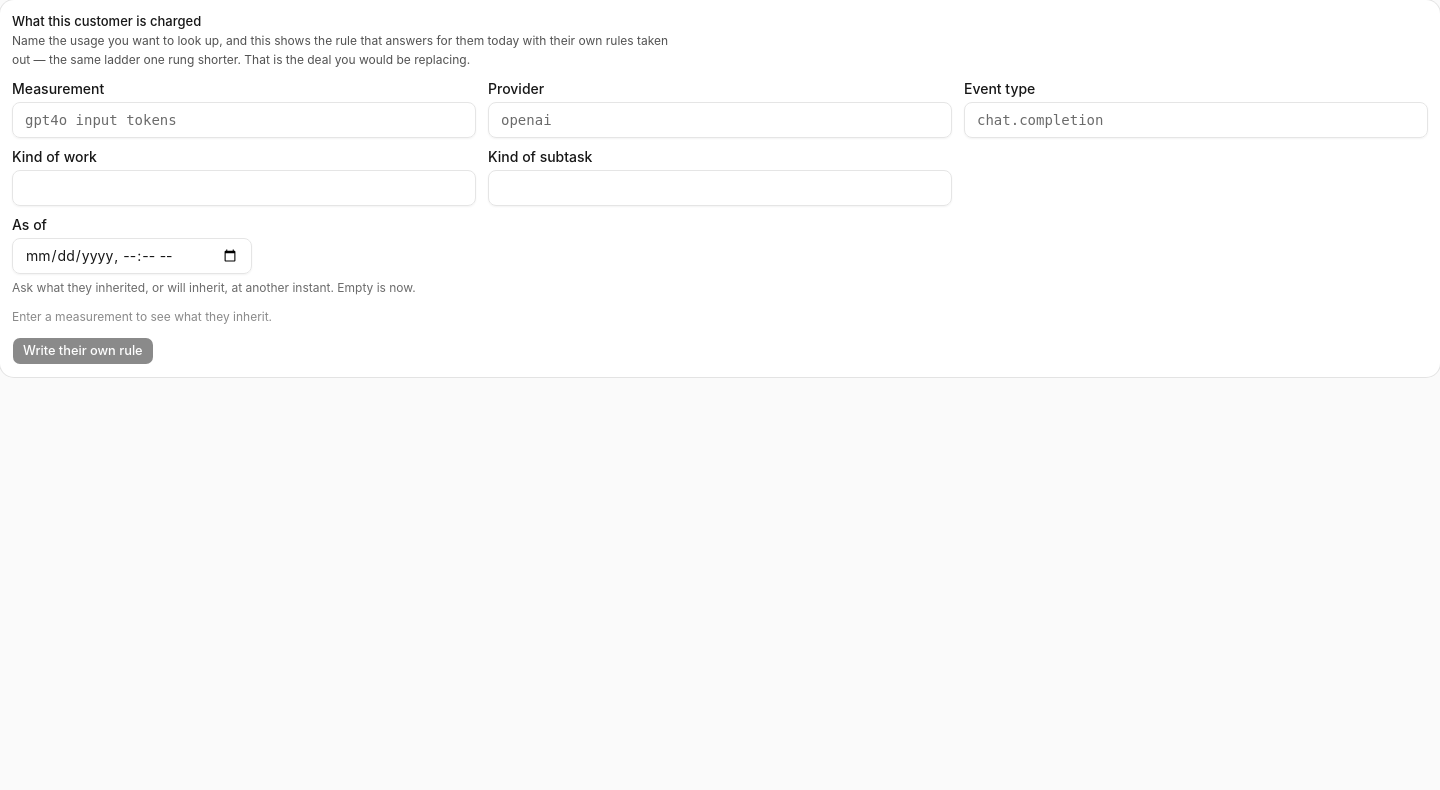
one customer's own pricing rules › offers to write a rule even where nothing is inherited
Type "nothing_prices_this" into the field labelled "Measurement" at coordinates (244, 120), box [12,102,476,138]
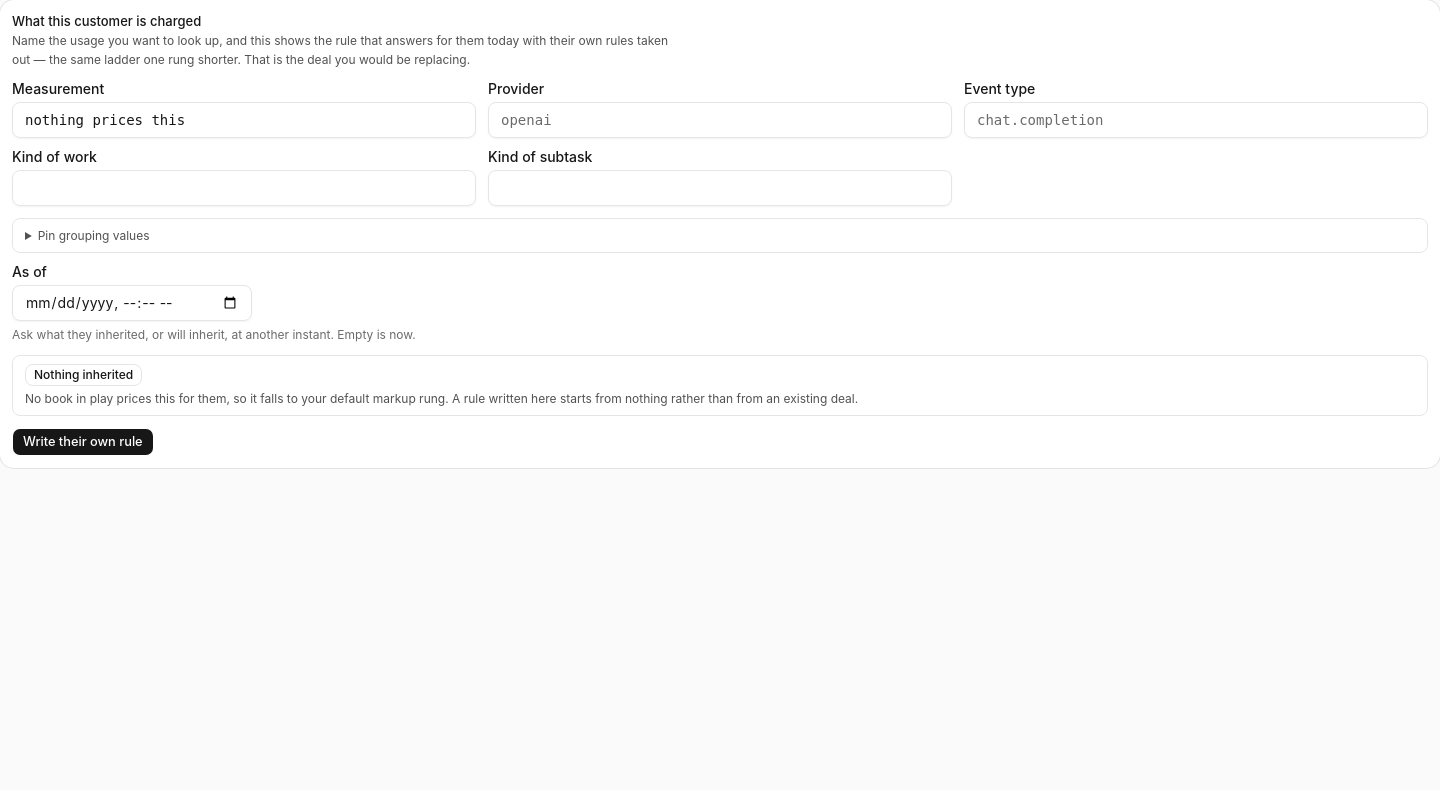
Result: the text "Nothing inherited" is shown at [25,364,142,386]
Result: the text "falls to your default markup rung" is shown at [25,391,858,406]
Click the button "Write their own rule" at coordinates (83, 442), box [12,428,154,456]
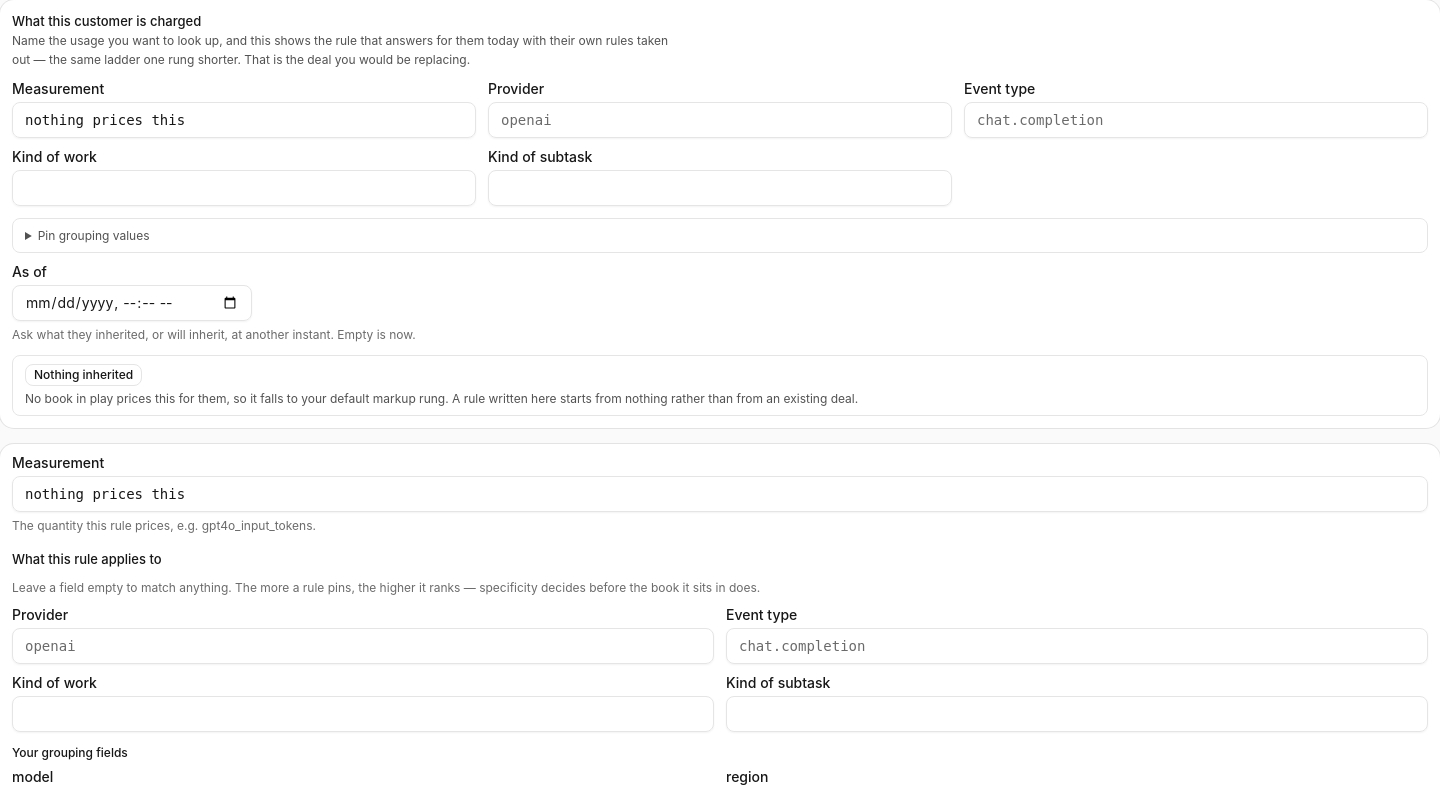
Result: the 2nd field labelled "Measurement" holds "nothing_prices_this" at [12,476,1428,512]
